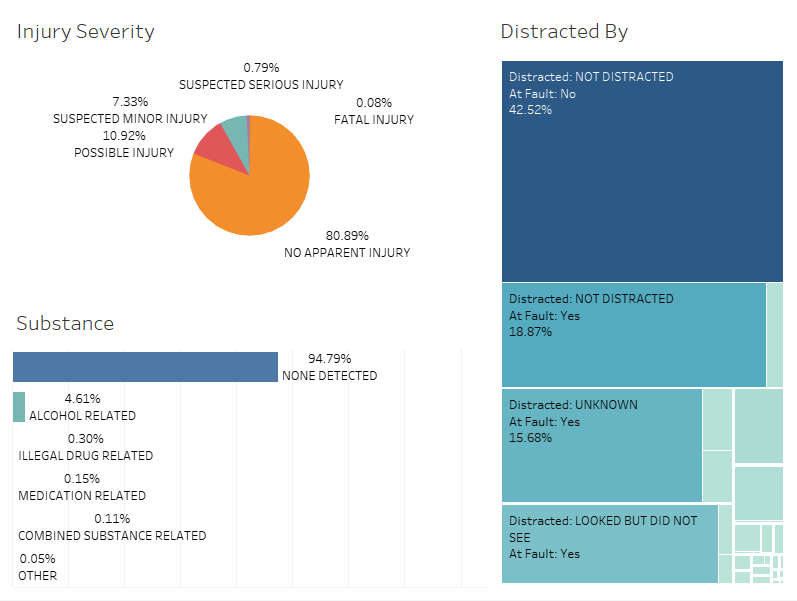

This screenshot's page, from the dashboard's own definition file:
{"tool":"tableau","page":{"name":"Driver DB ","canvas":[800,600],"ordinal":0},"visuals":[{"type":"worksheet","title":"Injury Severity","mark":"Pie","box":[8,8,484,292]},{"type":"worksheet","title":"Distracted By","mark":"Automatic","box":[492,8,300,584]},{"type":"worksheet","title":"Substance","mark":"Automatic","cols":["Crash!Reporting!-!Drivers!Data_267D791D6EA04D1FAE07A9C55C215"],"box":[8,300,484,292]}]}

Visuals, with their boxes in screenshot pixels (x1, y1, x2, y2), scaled from the page's 800x600 canvas onto the 797x601 screenshot:
"Injury Severity" worksheet (Pie marks): 8 8 490 300
"Distracted By" worksheet: 490 8 789 593
"Substance" worksheet: 8 300 490 593
